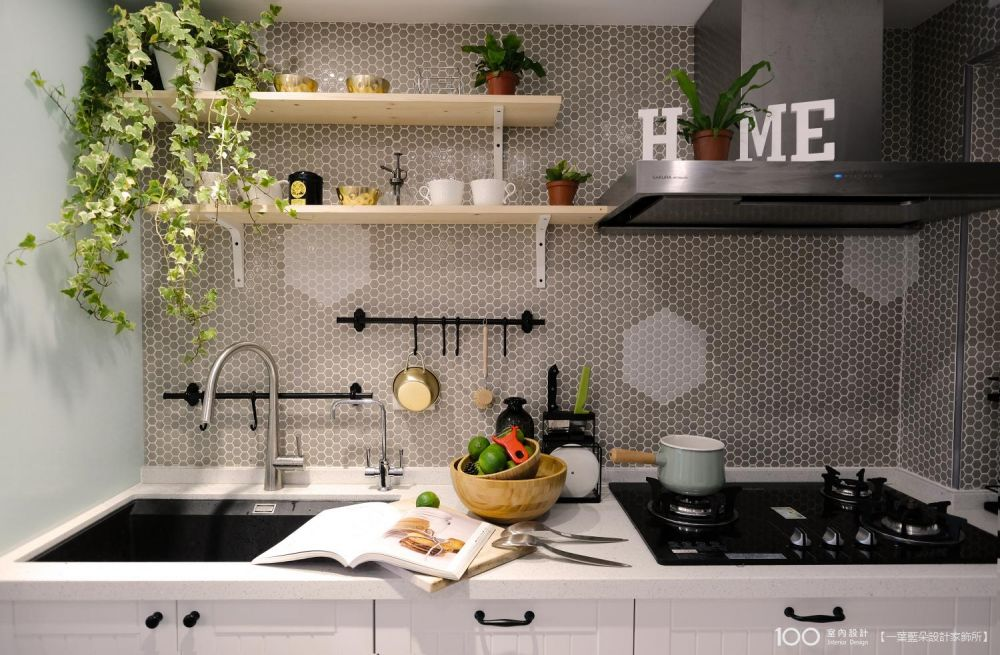gasoven: (604, 469, 996, 575)
